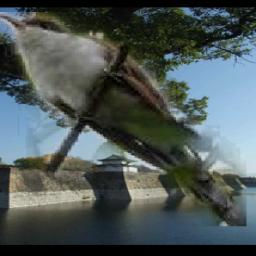Cuckoo: (0, 13, 248, 227)
